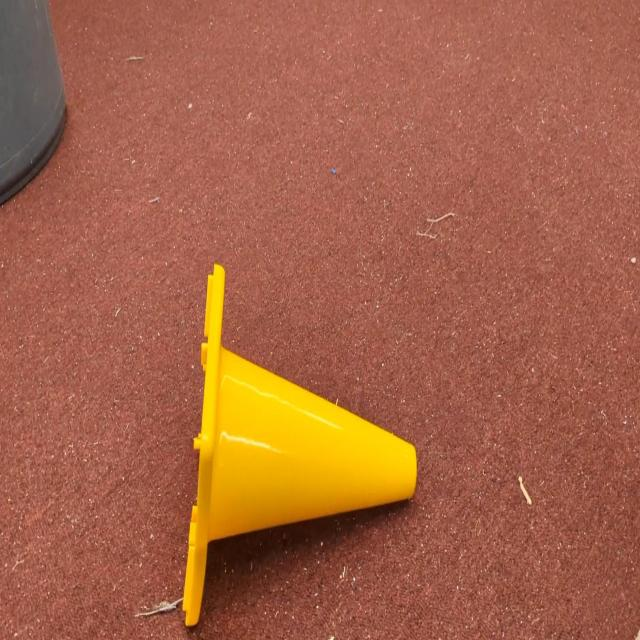frc_cone: (180, 264, 416, 625)
